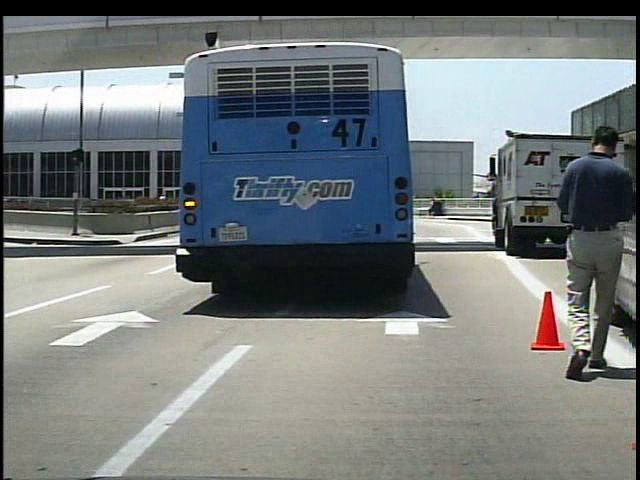person: (557, 117, 635, 376)
